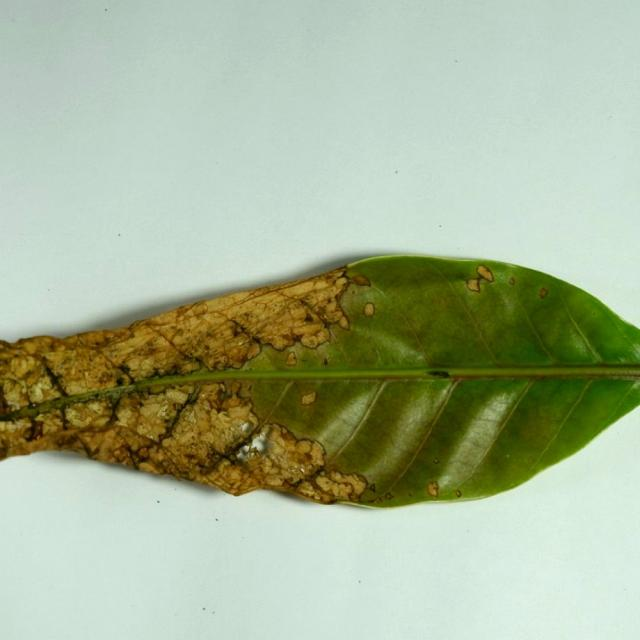Anthracnose: (276, 334, 340, 372), (143, 438, 190, 477), (230, 416, 271, 456), (199, 338, 243, 370), (298, 438, 328, 472), (104, 343, 167, 359), (465, 264, 495, 293), (231, 381, 257, 410), (0, 416, 34, 437), (10, 355, 38, 379), (114, 404, 140, 429), (62, 377, 94, 396), (227, 318, 251, 341), (591, 370, 640, 381), (113, 365, 134, 389), (296, 387, 318, 407), (76, 437, 96, 459), (146, 381, 175, 396), (267, 333, 292, 350), (359, 487, 382, 503), (85, 400, 107, 415), (27, 384, 45, 402), (214, 453, 235, 468), (296, 482, 316, 497), (156, 402, 172, 420), (351, 273, 371, 287), (191, 302, 210, 316), (129, 318, 151, 330), (325, 325, 338, 345), (112, 447, 130, 461), (322, 311, 339, 325), (3, 397, 21, 410), (217, 410, 232, 425), (284, 351, 298, 366), (362, 302, 376, 317), (331, 482, 345, 497), (426, 481, 439, 497), (428, 370, 451, 379), (186, 410, 199, 424), (162, 437, 176, 450), (633, 340, 640, 362), (538, 287, 549, 299), (303, 312, 315, 323), (218, 383, 228, 394), (156, 368, 167, 376), (299, 465, 306, 473), (407, 491, 413, 497), (350, 289, 356, 295), (433, 459, 439, 465), (506, 454, 510, 458)
Mango: (0, 254, 639, 512)
